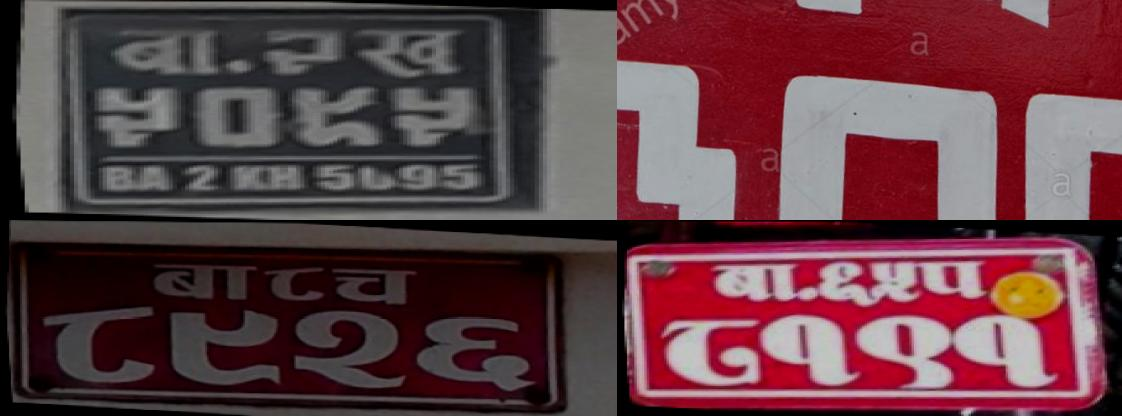0: (753, 49, 1016, 220), (1001, 67, 1122, 220), (168, 78, 290, 154)
1: (945, 311, 1068, 386), (750, 309, 858, 387)
2: (278, 303, 419, 394), (249, 26, 361, 78)
3: (617, 30, 761, 220)
5: (74, 82, 191, 152), (376, 82, 490, 153), (866, 256, 926, 303)
6: (402, 308, 544, 396), (811, 257, 873, 303)
8: (25, 295, 166, 388), (652, 313, 767, 384), (254, 259, 331, 303)
9: (149, 302, 292, 392), (273, 77, 395, 155), (844, 311, 963, 388)
ba: (92, 20, 238, 78), (138, 254, 262, 305), (704, 259, 798, 301)
cha: (868, 0, 1108, 48), (323, 261, 422, 309)
kha: (339, 25, 473, 84)
pa: (914, 255, 992, 297)
